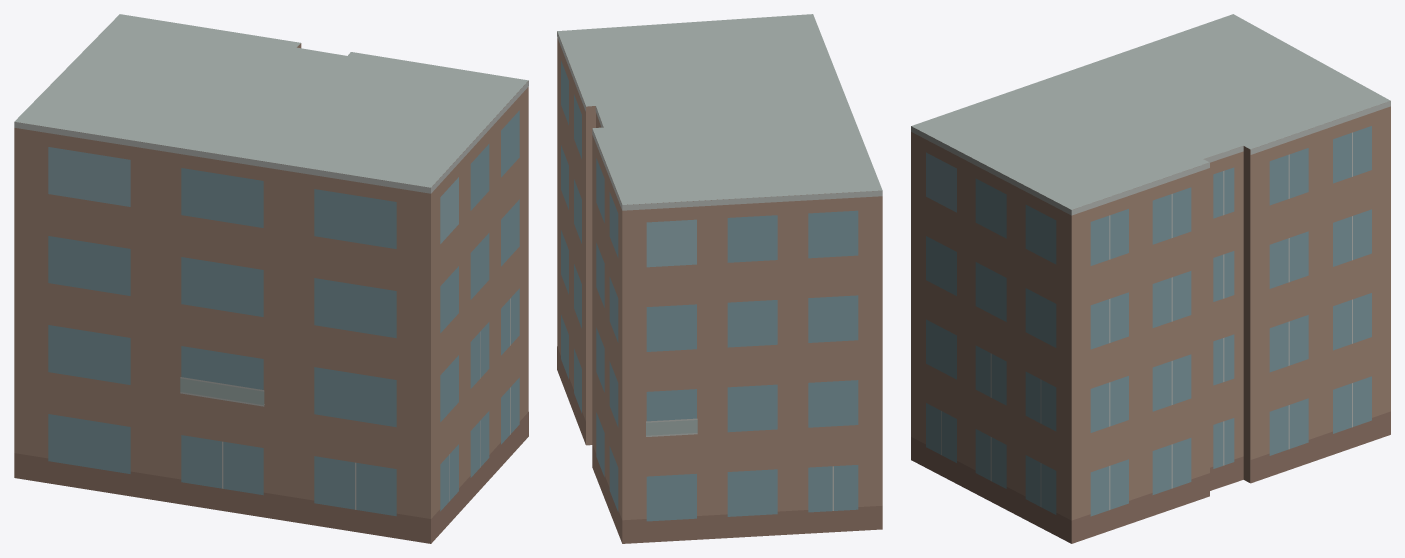
File: survey-upis-32812375.glb
The picture shows the model from 3 angles, left to right: view 1: azimuth 30°, elevation 25°; view 2: azimuth 150°, elevation 25°; view 3: azimuth 270°, elevation 25°; orthographic projection. The views are drawn at different scales.
Parts seen in each view (by area): view 1: survey-upis-32812375.tmp; view 2: survey-upis-32812375.tmp; view 3: survey-upis-32812375.tmp.
Boxes of the visible parts, left/top/right/bottom form: survey-upis-32812375.tmp: left=14, top=14, right=528, bottom=543; survey-upis-32812375.tmp: left=557, top=14, right=882, bottom=543; survey-upis-32812375.tmp: left=911, top=14, right=1390, bottom=543.
Bounding box in the file's own units: 18.25 × 14.5 × 18.89.
